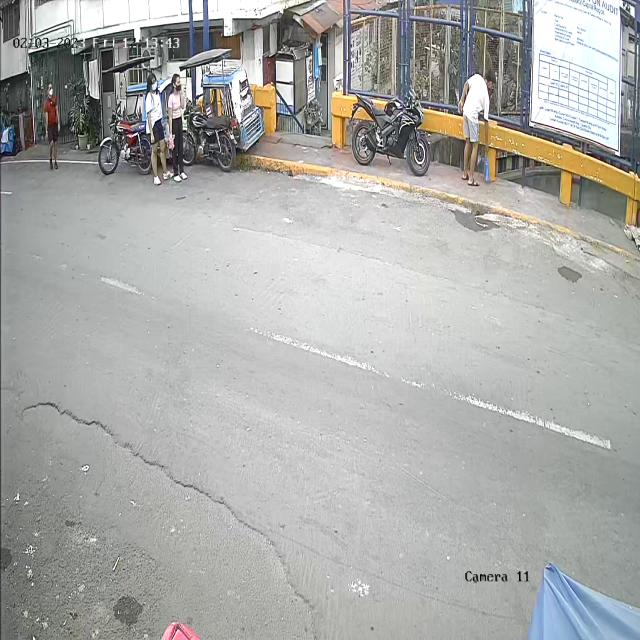garbage_dumping: (481, 150, 492, 181)
